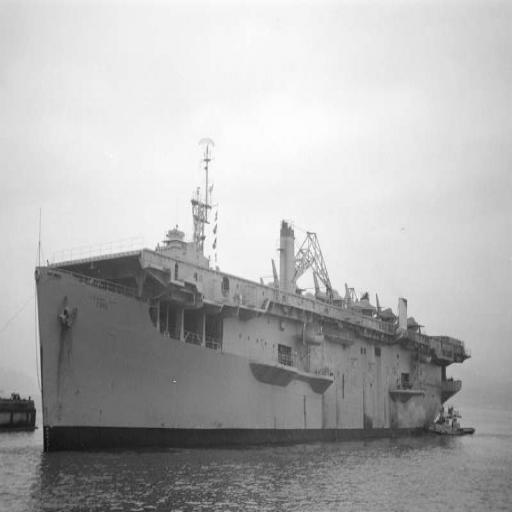Portanaves: (29, 92, 477, 458)
